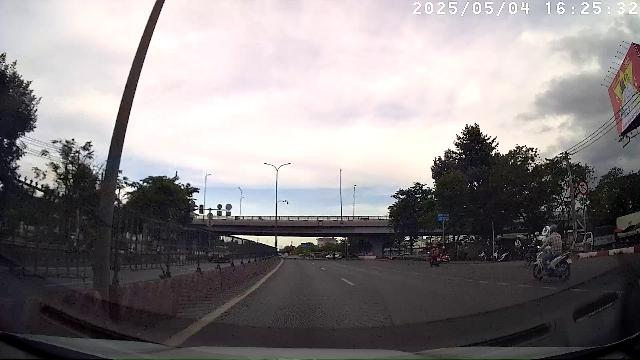123b-cam-re-phai: (577, 180, 588, 195)
